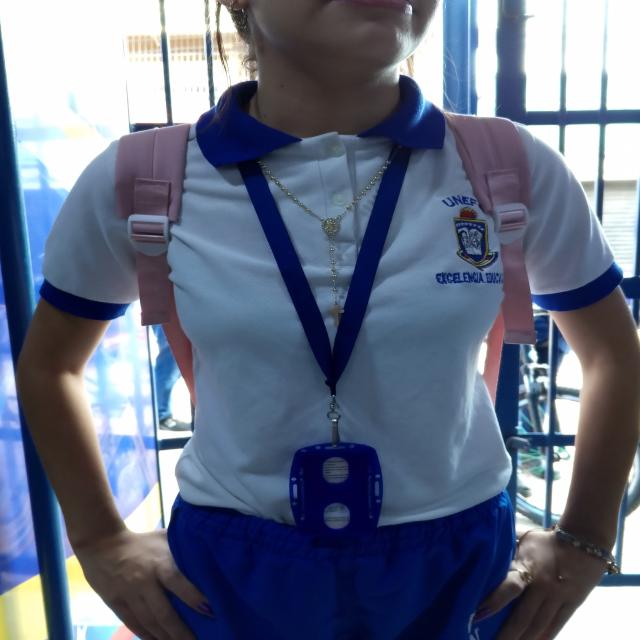carnet: (286, 443, 382, 548)
uniforme_superior: (35, 75, 627, 529)
